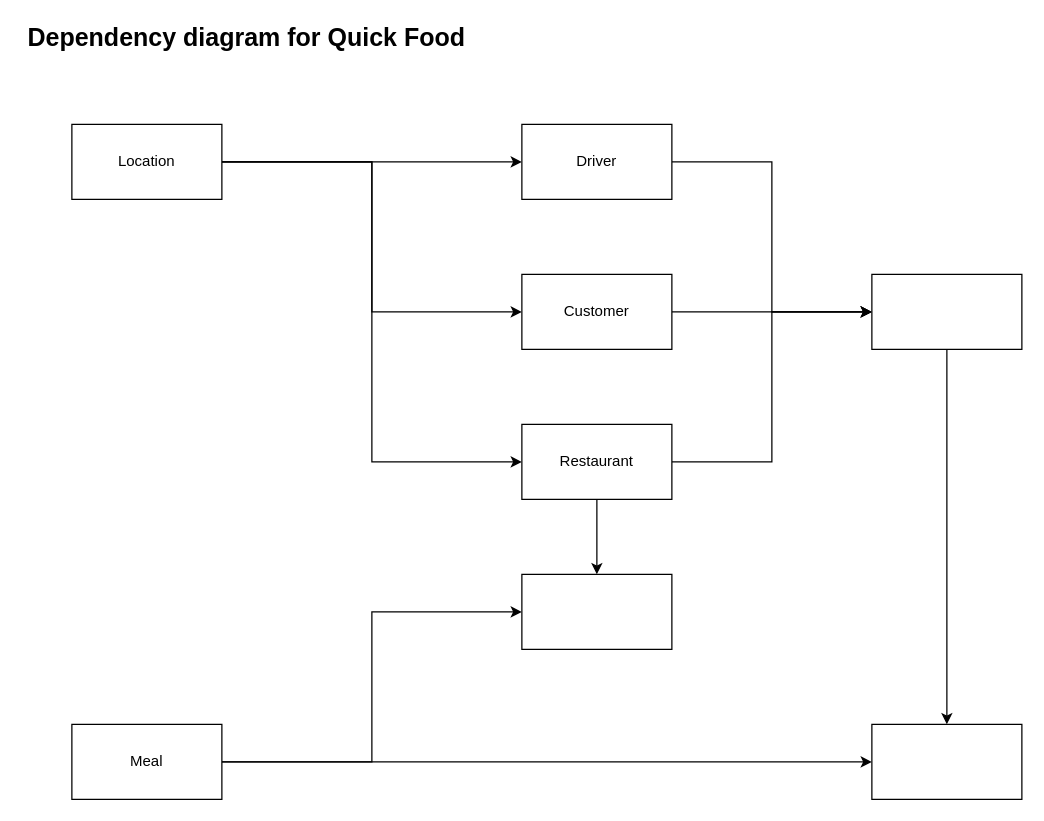
Some shapes in this 1044 by 821 pixel diagram are drawn without their labels. The box of each missing label's shape, as (x1, y1, x2, y2) in pixels:
MealList: (871, 723, 1022, 799)
Menu: (521, 573, 672, 649)
Order: (871, 273, 1022, 349)
